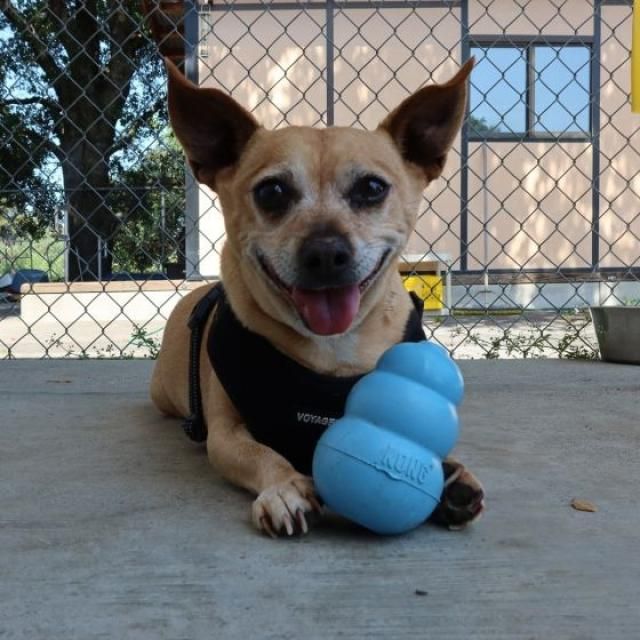chihuahua_dog: (153, 46, 480, 348)
